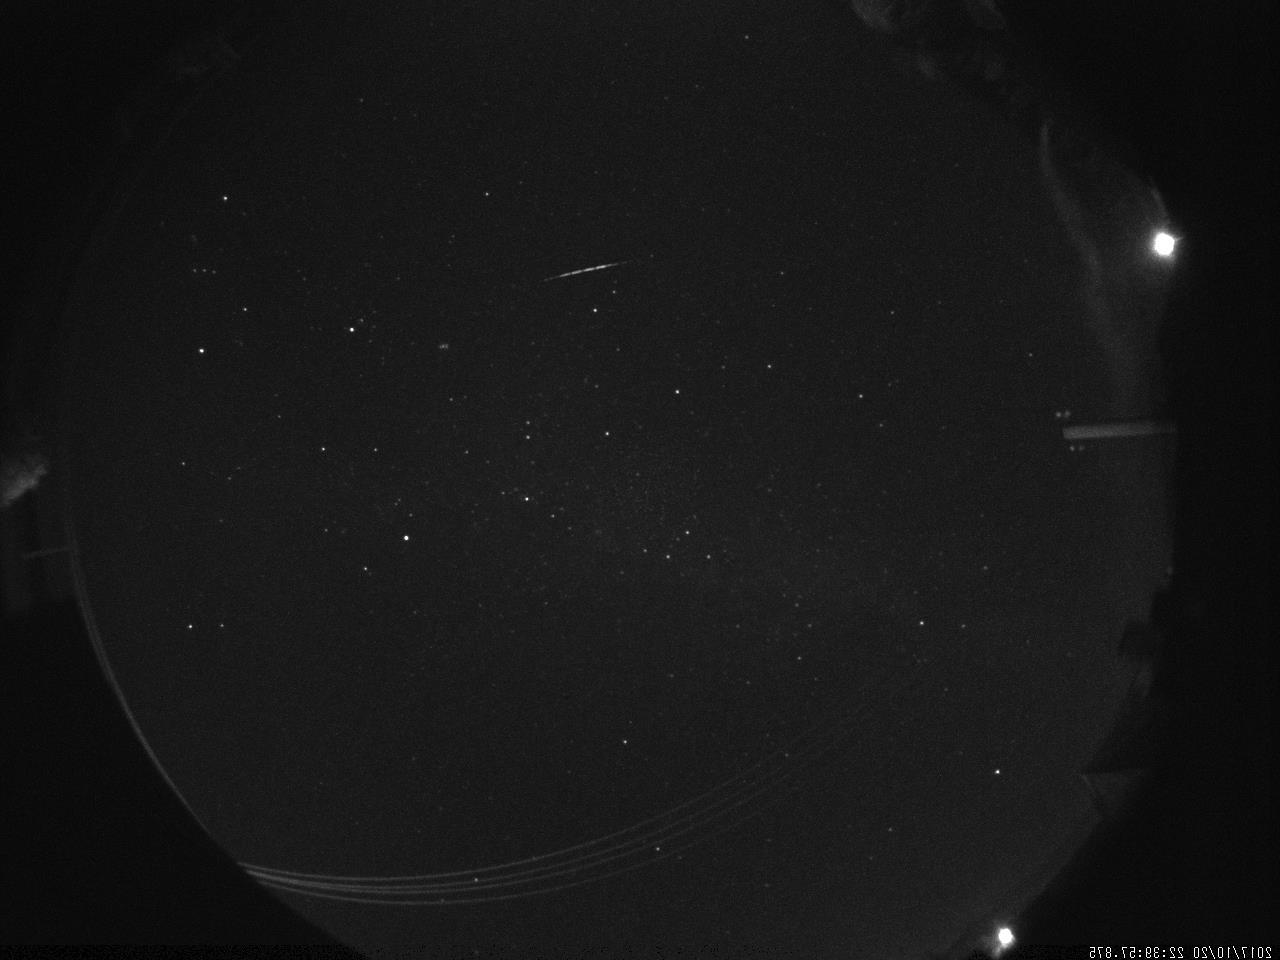meteor: (537, 247, 635, 292)
